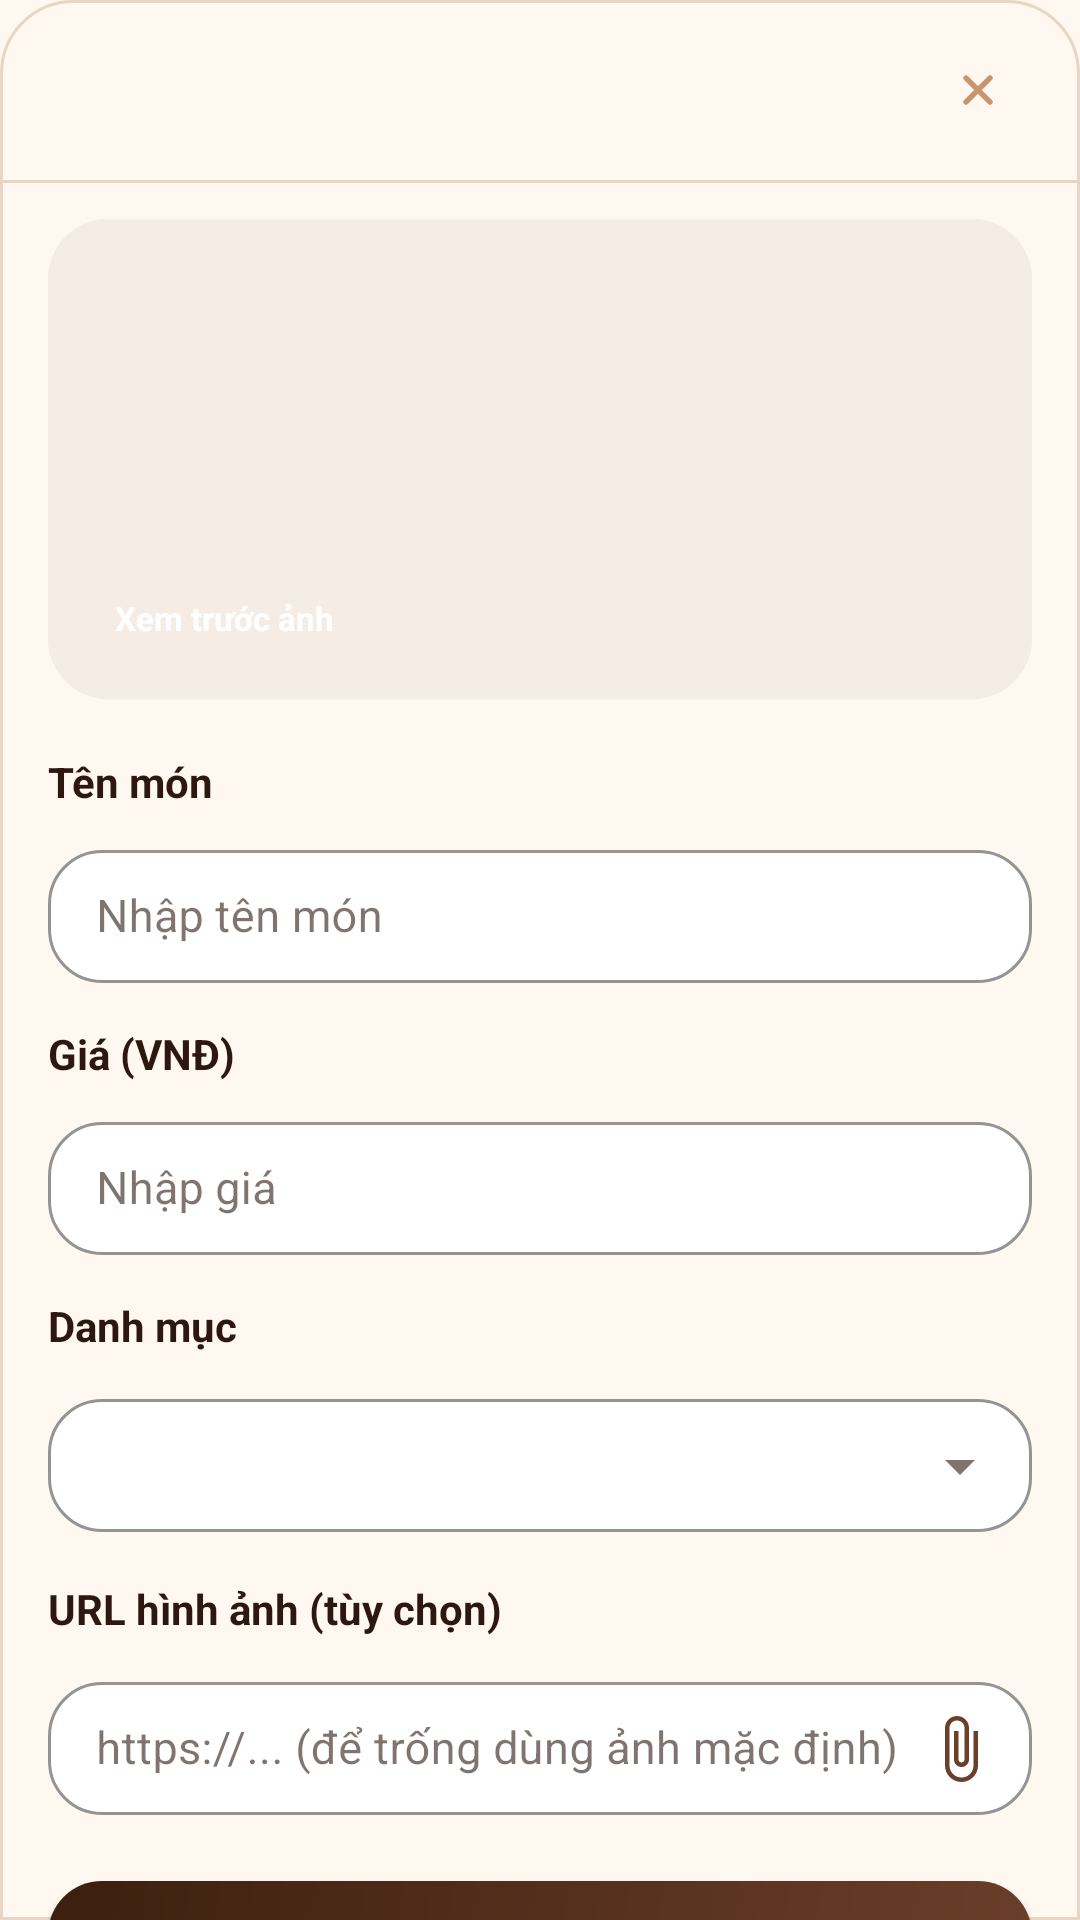

Icons on this 1080 x 1920 Android screen, each with the point to tap as [x,y]:
Đóng: [978,90]
